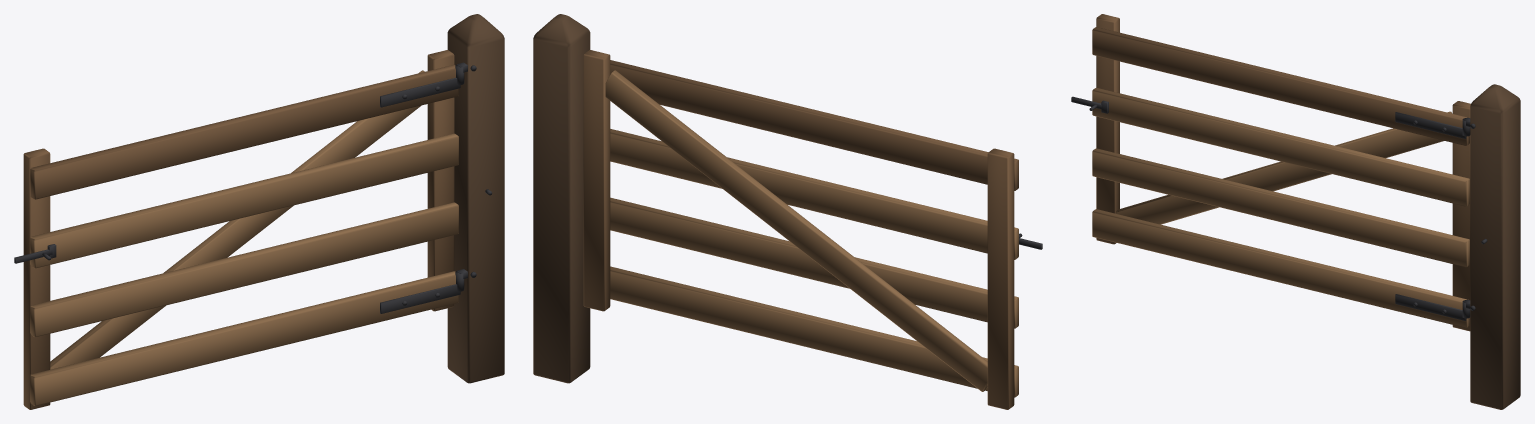
File: Barriere_Portail.fbx
The picture shows the model from 3 angles, left to right: view 1: azimuth 30°, elevation 25°; view 2: azimuth 150°, elevation 25°; view 3: azimuth 330°, elevation 25°; orthographic projection. The views are drawn at different scales.
Parts seen in each view (by area): view 1: Portail_Battant, Portail_Poteau; view 2: Portail_Battant, Portail_Poteau; view 3: Portail_Battant, Portail_Poteau.
Boxes of the visible parts, x1,y1,x2,y2 form: Portail_Battant: (14,50,464,409); Portail_Poteau: (447,14,504,383); Portail_Battant: (583,50,1042,409); Portail_Poteau: (533,14,590,383); Portail_Battant: (1071,14,1470,331); Portail_Poteau: (1464,84,1520,409).
Bounding box in the file's own units: 2.08 × 1.45 × 0.199.
